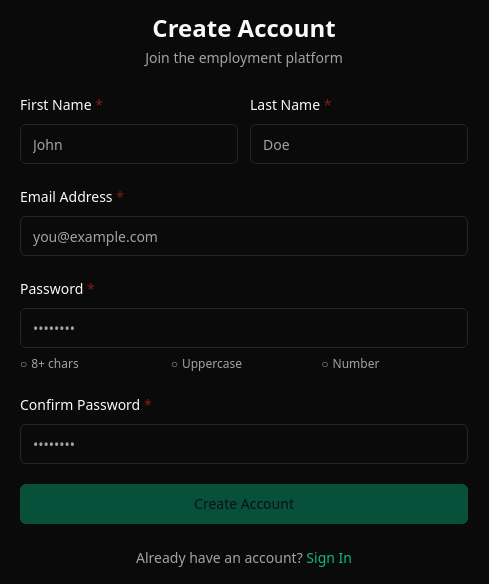
Test: RegisterForm › enables submit button when password meets requirements
Type "Password1" into the password field labelled "Password *" at (244, 328), box [20, 308, 468, 348]
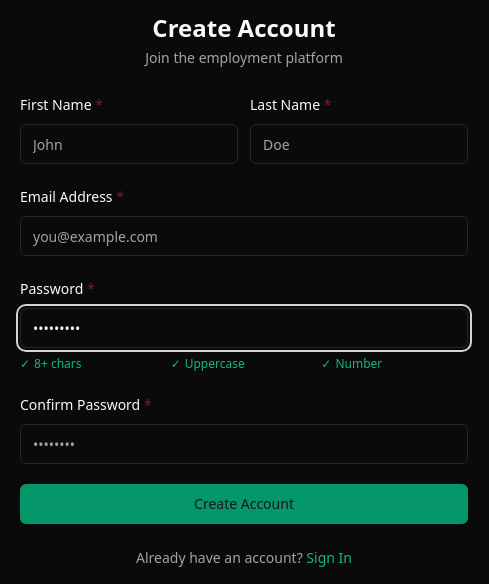
Result: the button "Create Account" is enabled at [20, 484, 468, 524]
